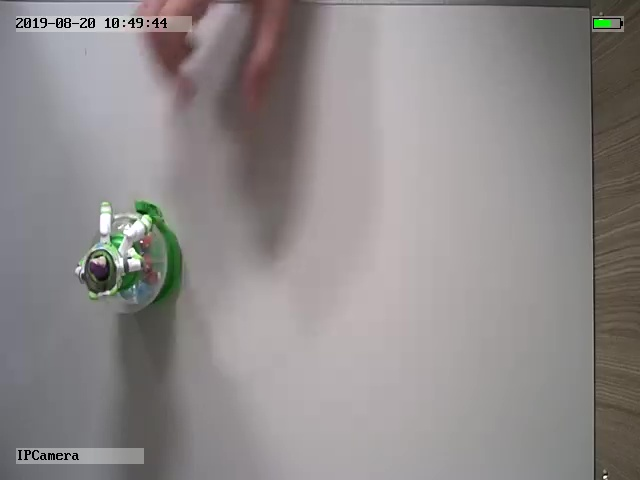buzz: (71, 199, 185, 313)
